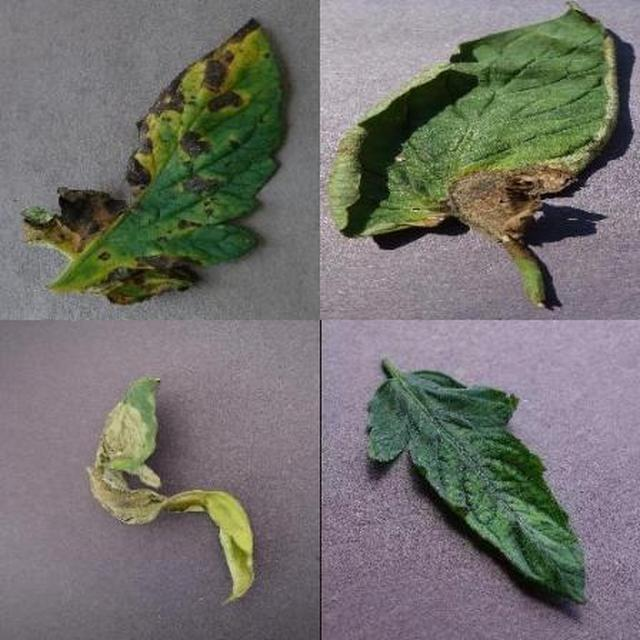Early Blight Leaf: (219, 171, 640, 640)
